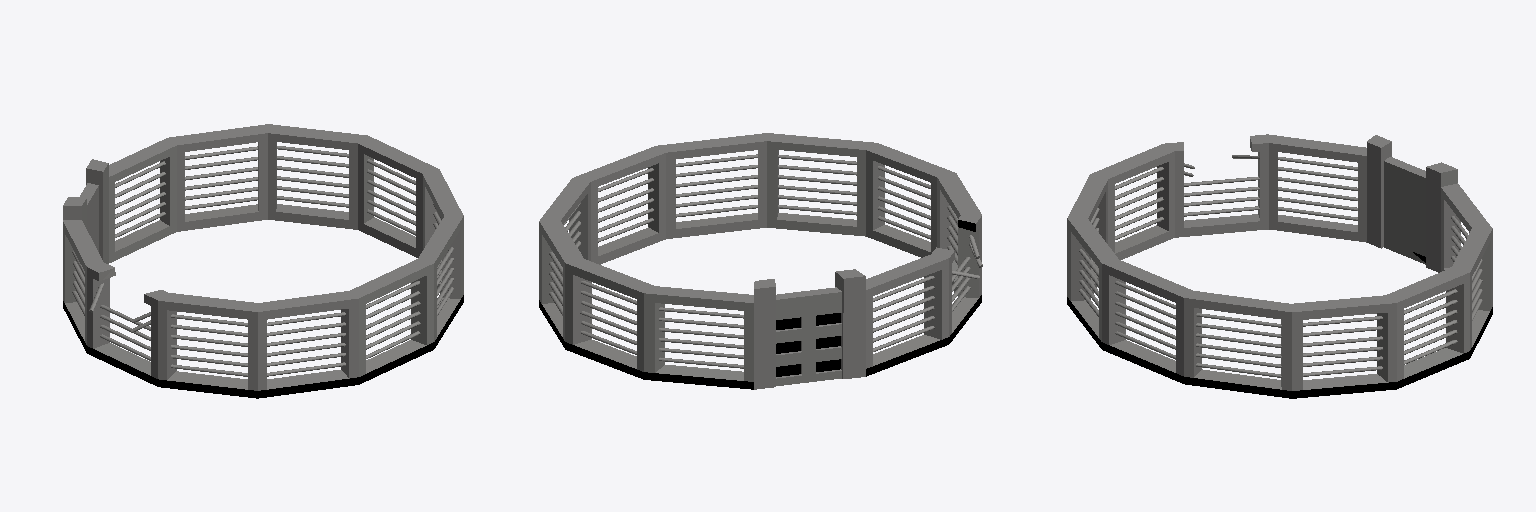
3 views of the same model, side by side, from view 1: azimuth 30°, elevation 25°; view 2: azimuth 150°, elevation 25°; view 3: azimuth 270°, elevation 25° (orthographic).
Parts seen in each view (by area): view 1: polySurface10; view 2: polySurface10; view 3: polySurface10.
Part boxes in pixels (left/top/right/bottom): polySurface10: left=63, top=124, right=463, bottom=398; polySurface10: left=539, top=133, right=982, bottom=389; polySurface10: left=1067, top=134, right=1492, bottom=398.
Bounding box in the file's own units: 53.63 × 13.61 × 52.06.
4 materials, 1 textured.